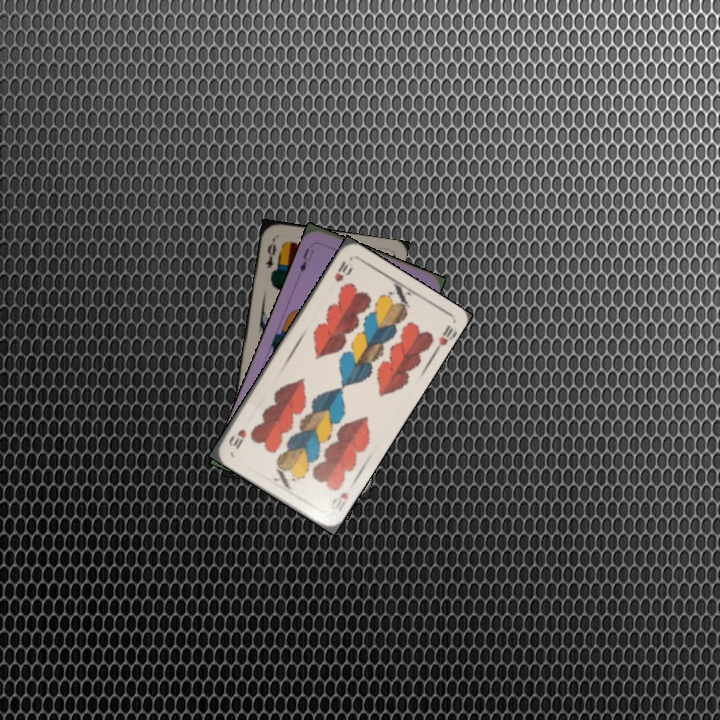EO: (261, 235, 279, 271)
EU: (296, 244, 317, 275)
H10: (330, 257, 354, 284), (327, 488, 351, 514)
